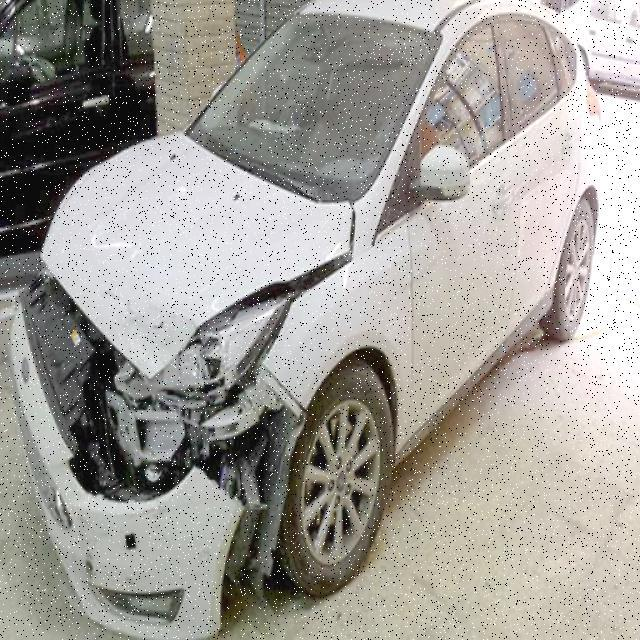car damage: (10, 249, 351, 638)
